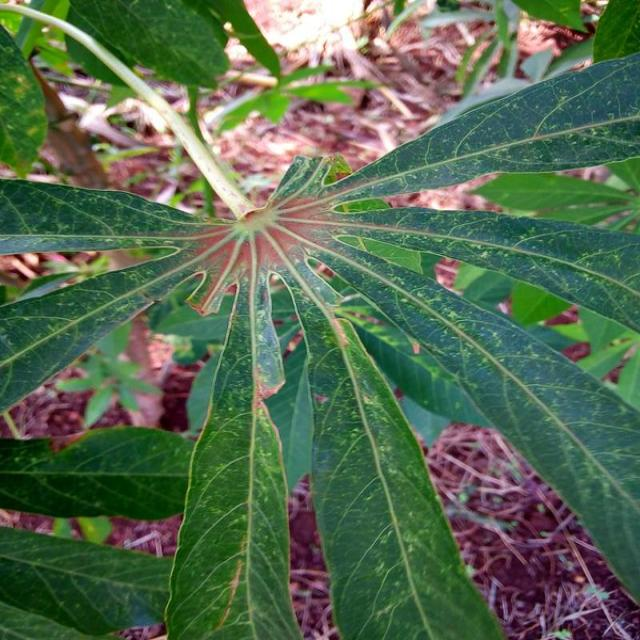cassava leaf: (2, 20, 640, 636), (164, 269, 305, 638)
